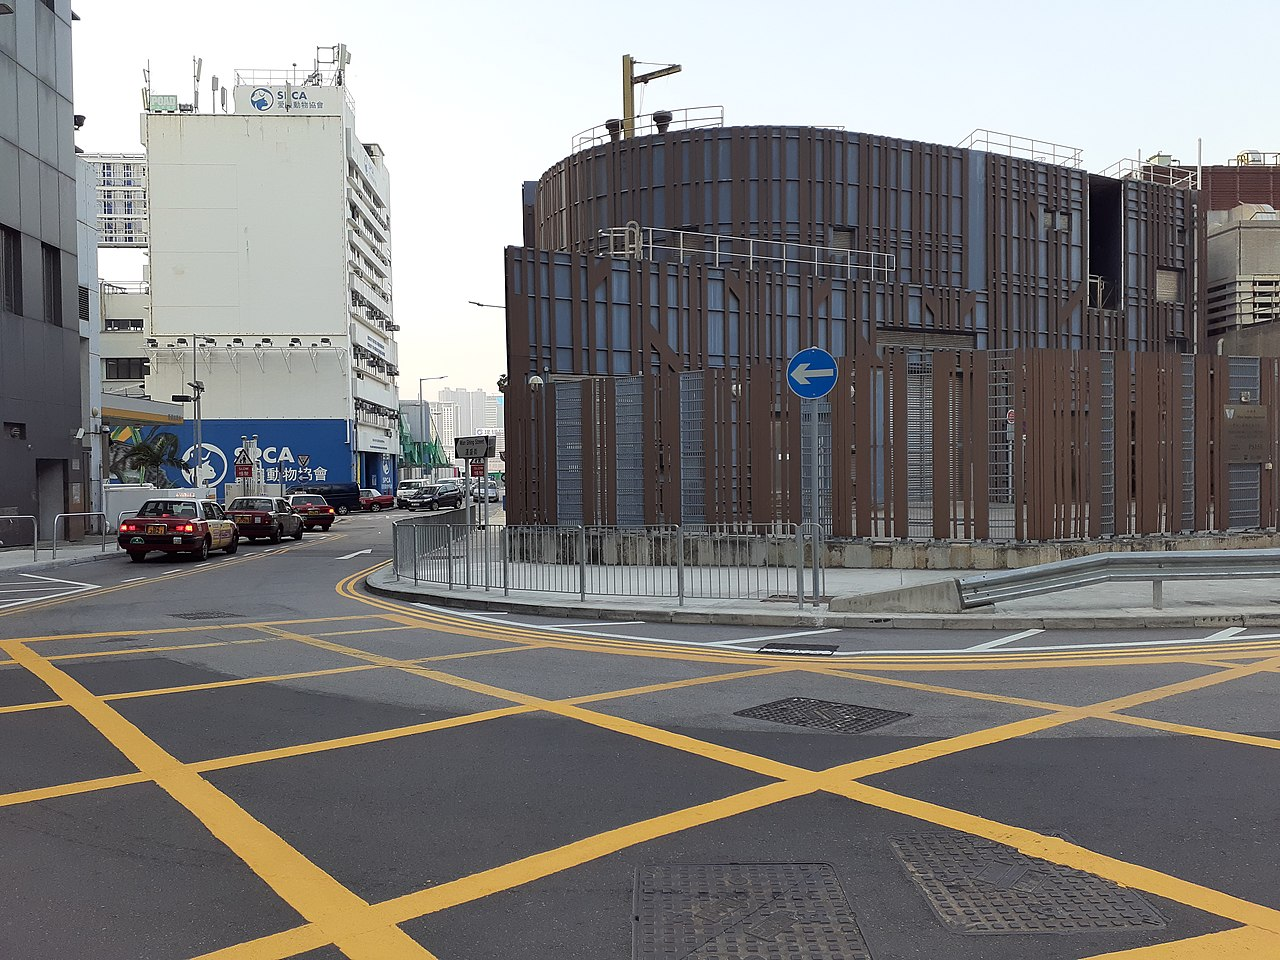Turn Left: (785, 347, 841, 400)
